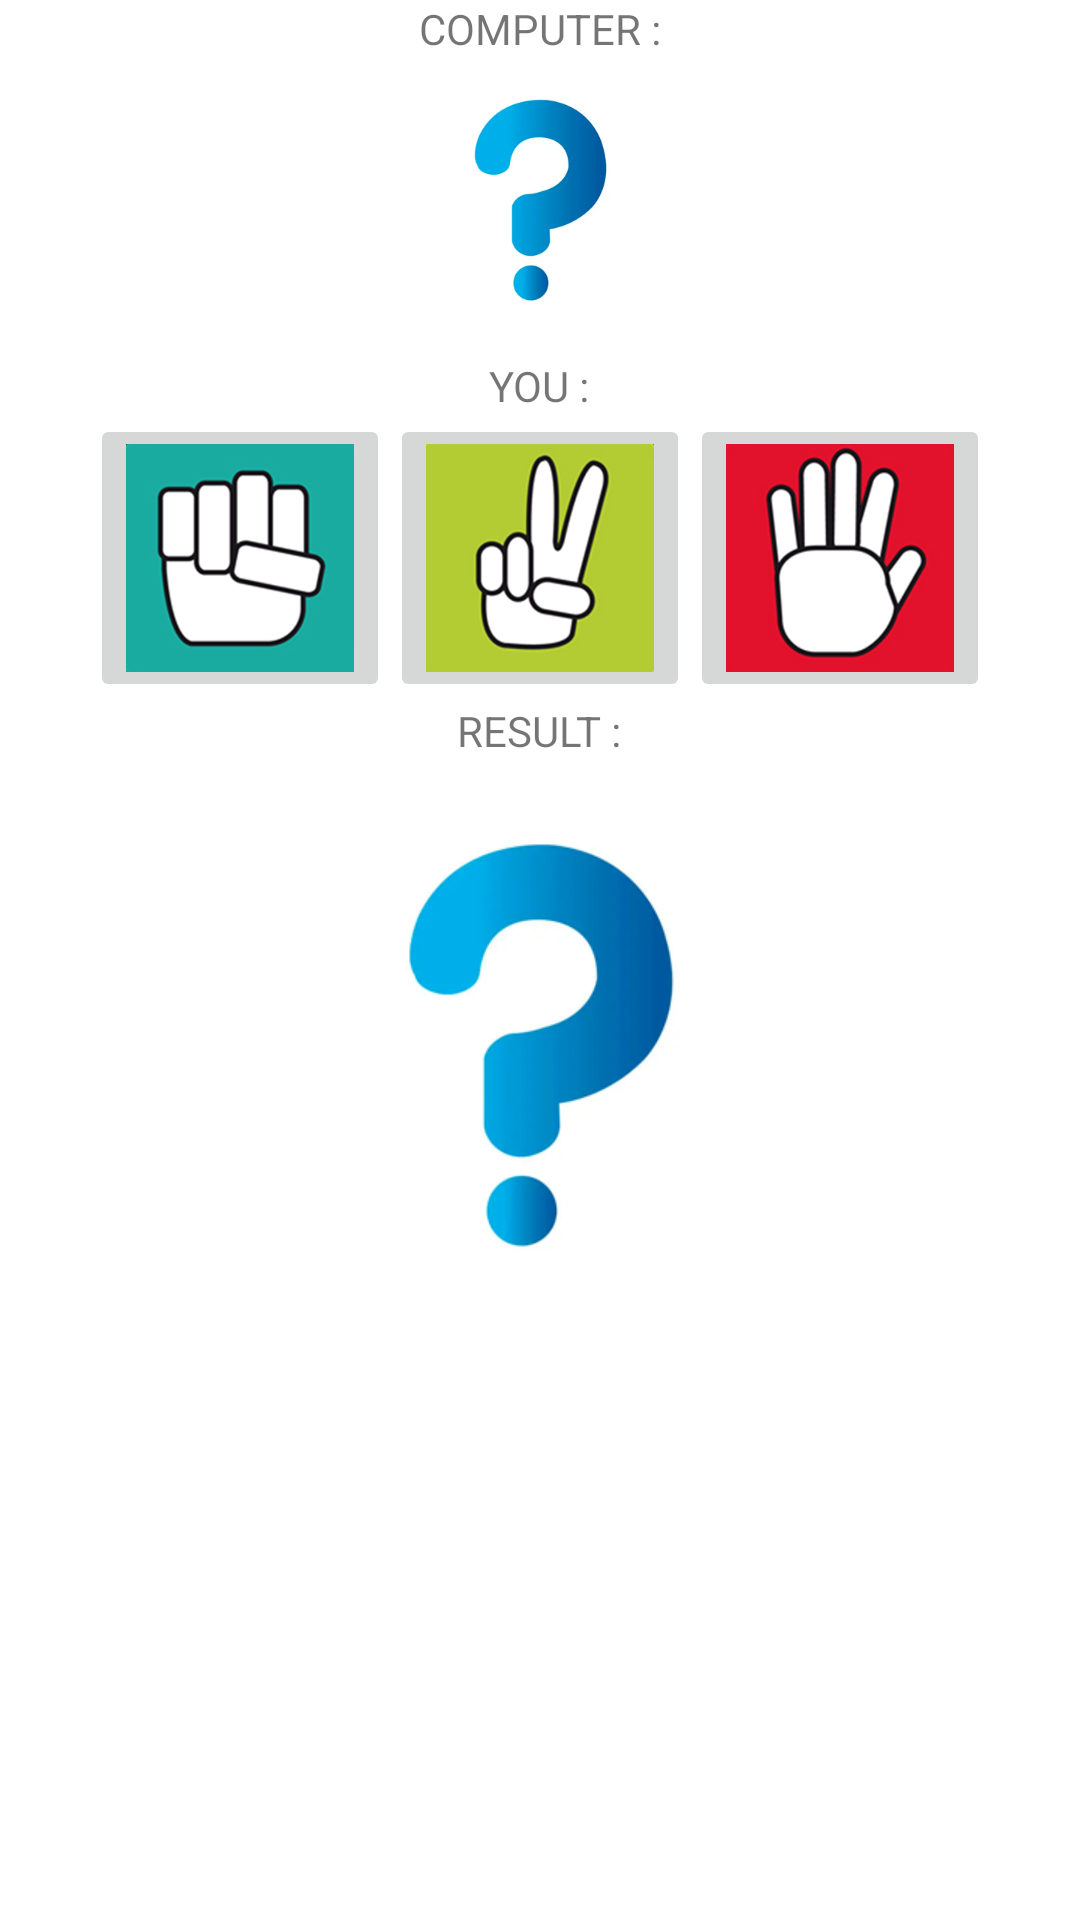

Screen size 1080px x 1920px. Icon name, then its center in pixels as (x,y):
paper: (840,558)
rock: (240,558)
scissors: (540,558)
